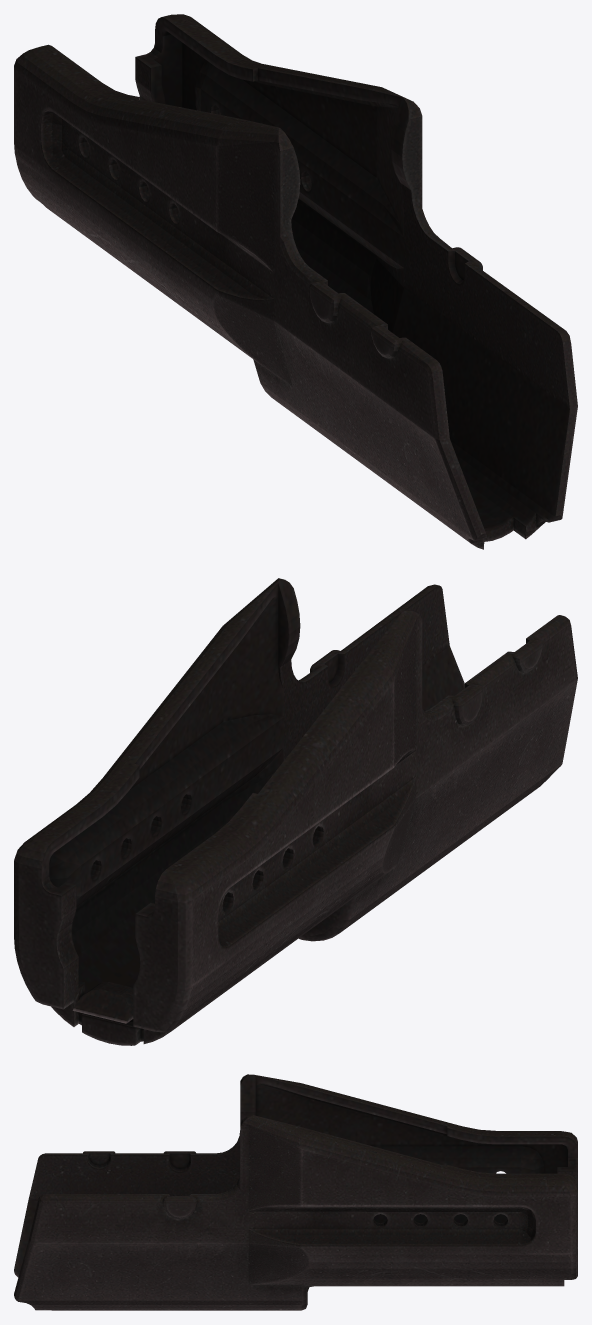
3 views of the same model, one above another, from view 1: azimuth 30°, elevation 25°; view 2: azimuth 150°, elevation 25°; view 3: azimuth 270°, elevation 25° (orthographic). The views are drawn at different scales.
Visible parts, largest first — view 1: TW_62e15547db1a5c41971c1b5e_PZ_Import; view 2: TW_62e15547db1a5c41971c1b5e_PZ_Import; view 3: TW_62e15547db1a5c41971c1b5e_PZ_Import.
Boxes of the visible parts, box(x1,y1,x2,y2) form: TW_62e15547db1a5c41971c1b5e_PZ_Import: box(14, 14, 577, 549); TW_62e15547db1a5c41971c1b5e_PZ_Import: box(14, 578, 577, 1045); TW_62e15547db1a5c41971c1b5e_PZ_Import: box(14, 1074, 577, 1310).
Bounding box in the file's own units: 0.0236 × 0.0975 × 0.0404.
1 material, 1 textured.
